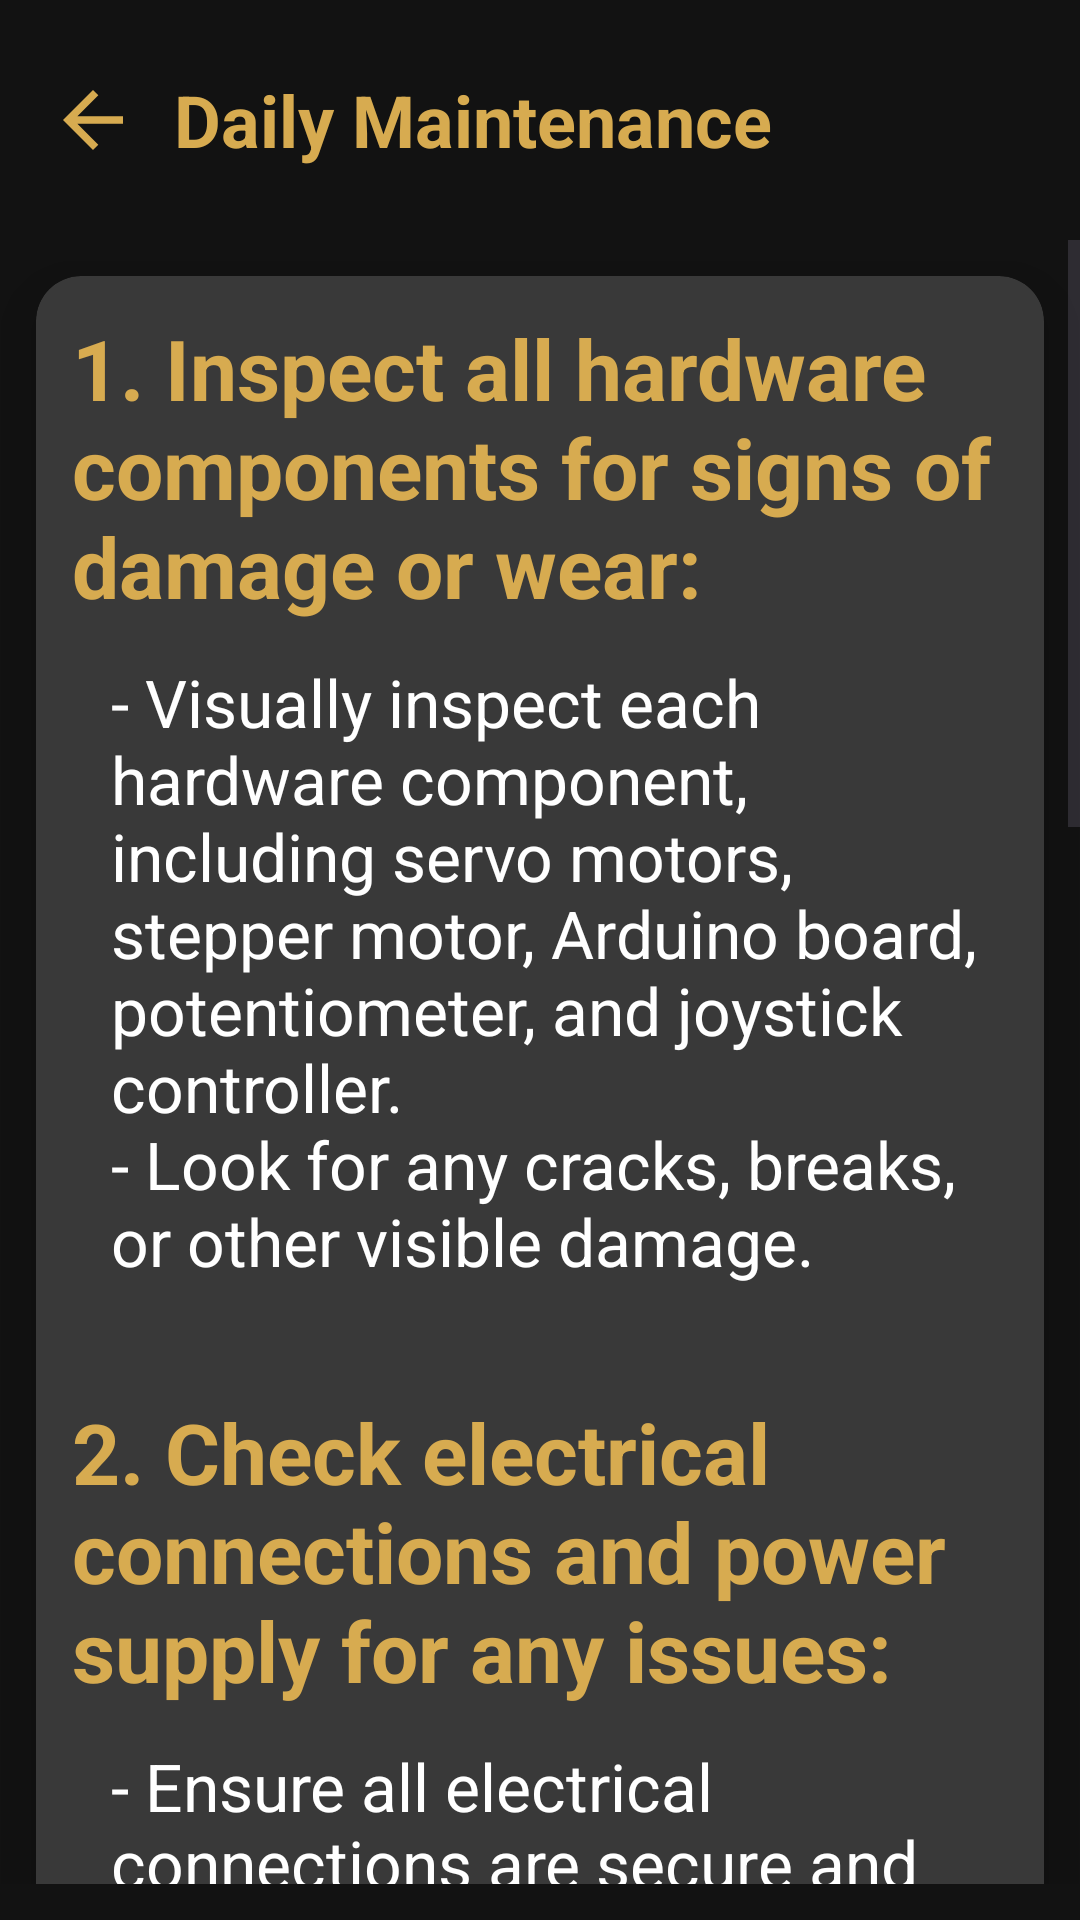

Screen size 1080*1920. Icon name, then its box in pixels as (x1, y1, x2, y2):
arrow back: (63, 90, 123, 150)
